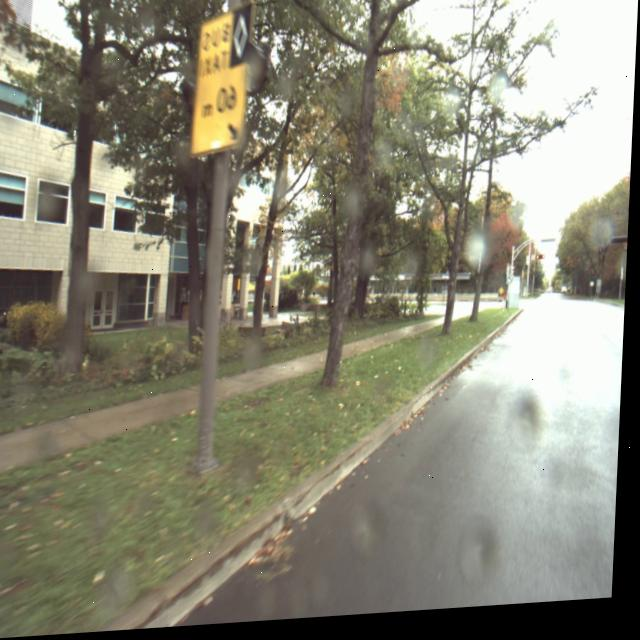trafficLight-Red: (533, 259, 548, 304)
